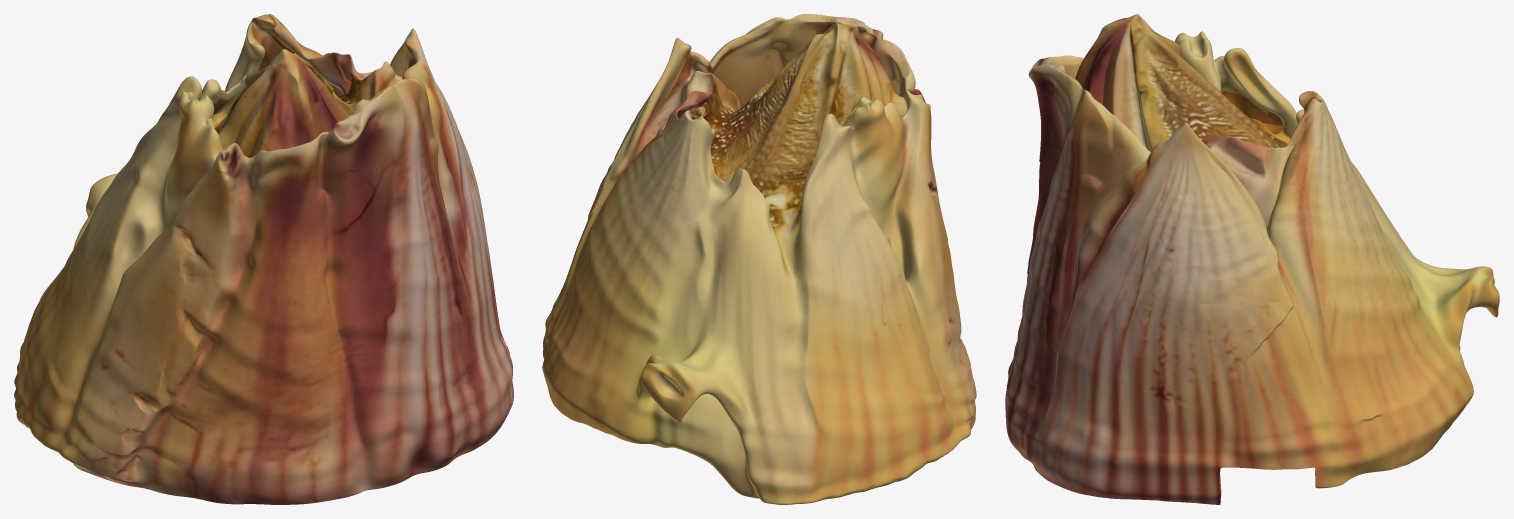
Rendered from Amphibalanus Reticulatus.glb.
The picture shows the model from 3 angles, left to right: view 1: azimuth 30°, elevation 25°; view 2: azimuth 150°, elevation 25°; view 3: azimuth 270°, elevation 25°; orthographic projection. The views are drawn at different scales.
Visible parts, largest first — view 1: tripo_node_054b0c1b-85ba-40e8-9559-378456a3a352; view 2: tripo_node_054b0c1b-85ba-40e8-9559-378456a3a352; view 3: tripo_node_054b0c1b-85ba-40e8-9559-378456a3a352.
Part boxes in pixels (bbox=[...]): tripo_node_054b0c1b-85ba-40e8-9559-378456a3a352: bbox=[14, 14, 513, 504]; tripo_node_054b0c1b-85ba-40e8-9559-378456a3a352: bbox=[542, 14, 976, 504]; tripo_node_054b0c1b-85ba-40e8-9559-378456a3a352: bbox=[1005, 14, 1499, 504].
Bounding box in the file's own units: 0.9814 × 0.8926 × 1.
Materials: 1 (1 with a texture image).
